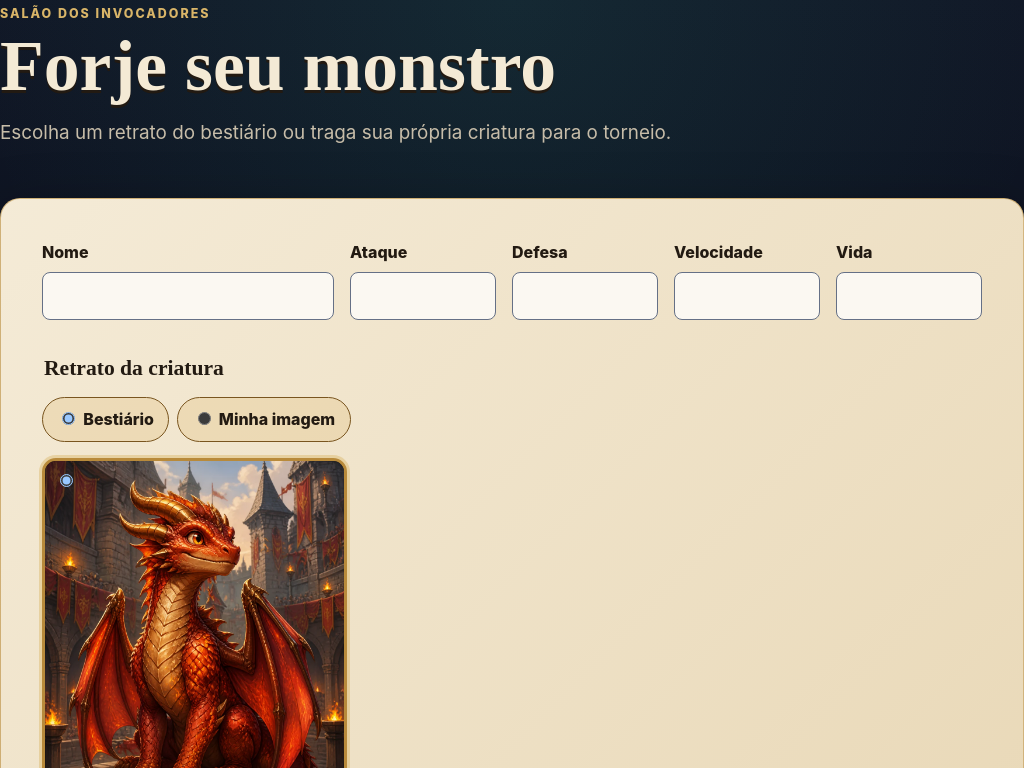
it: MonsterRegistrationPage › shows an actionable error when the selected upload cannot be read
The width and height of the screenshot is (1024, 768).
Click the radio button labelled "Minha imagem": (204, 419) [198, 412, 211, 426]
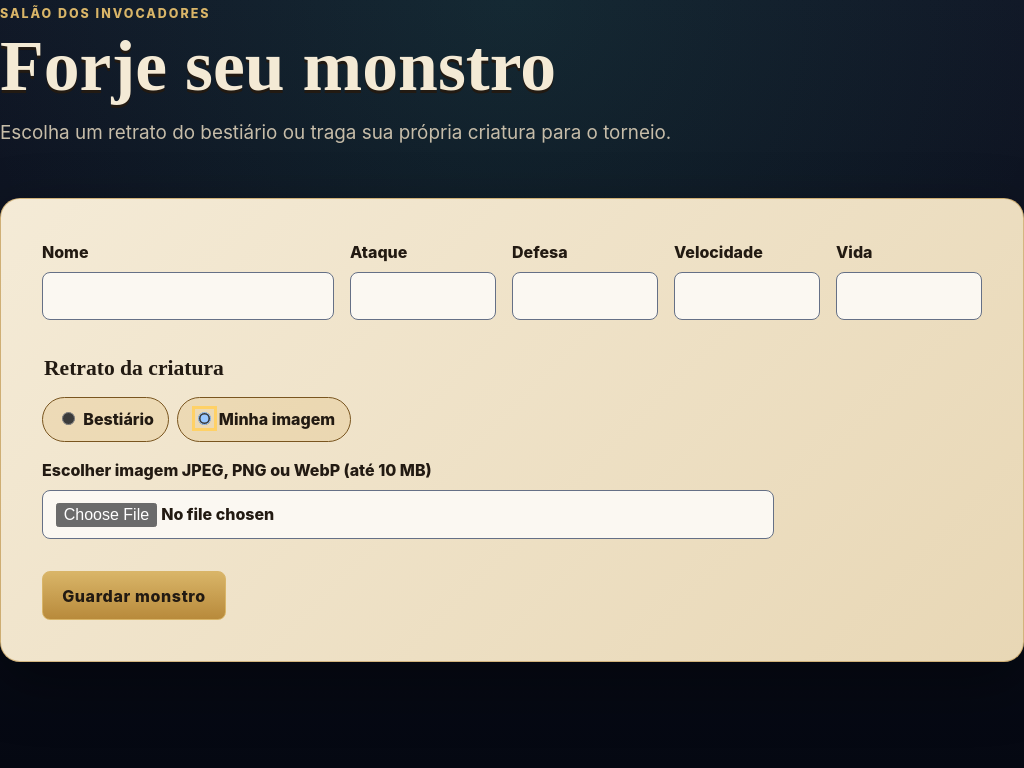
Submit the form named "Guardar monstro"
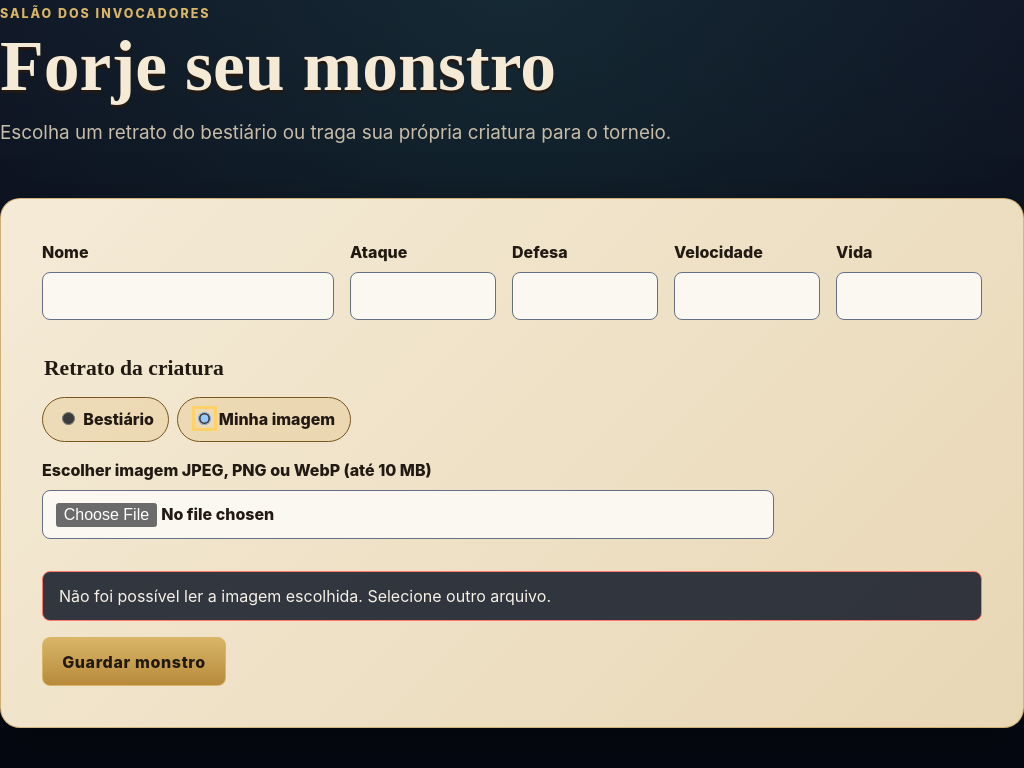
Expected: the message reads "Não foi possível ler a imagem escolhida. Selecione outro arquivo.", [59, 586, 551, 606]
